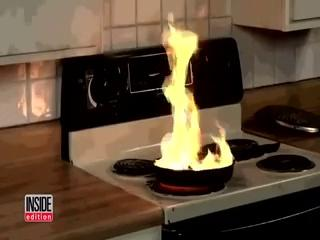Fire: (152, 16, 236, 172)
